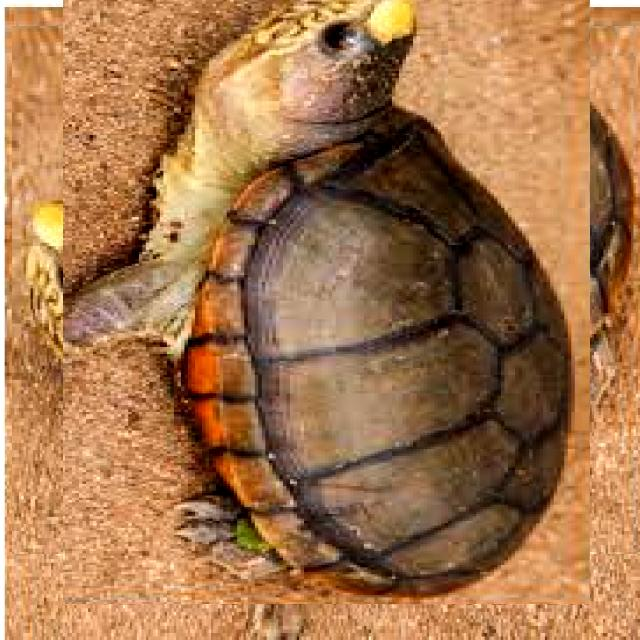Sea turtle: (37, 1, 615, 579)
